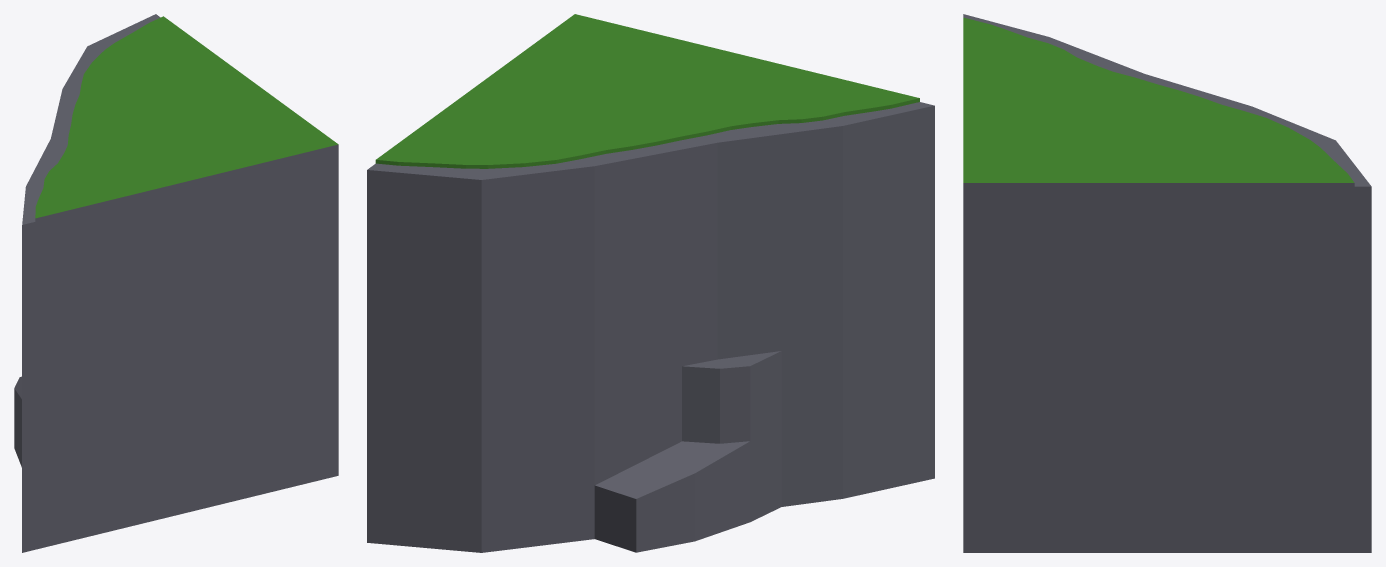
The model's file is Corner1v2.fbx.
The picture shows the model from 3 angles, left to right: view 1: azimuth 30°, elevation 25°; view 2: azimuth 150°, elevation 25°; view 3: azimuth 270°, elevation 25°; orthographic projection. The views are drawn at different scales.
Parts seen in each view (by area): view 1: Plane; view 2: Plane; view 3: Plane.
Part boxes in pixels (box(x1,y1,x2,y2)): Plane: box(14, 14, 338, 552); Plane: box(367, 14, 934, 552); Plane: box(963, 14, 1371, 552).
Bounding box in the file's own units: 75 × 75 × 75.
